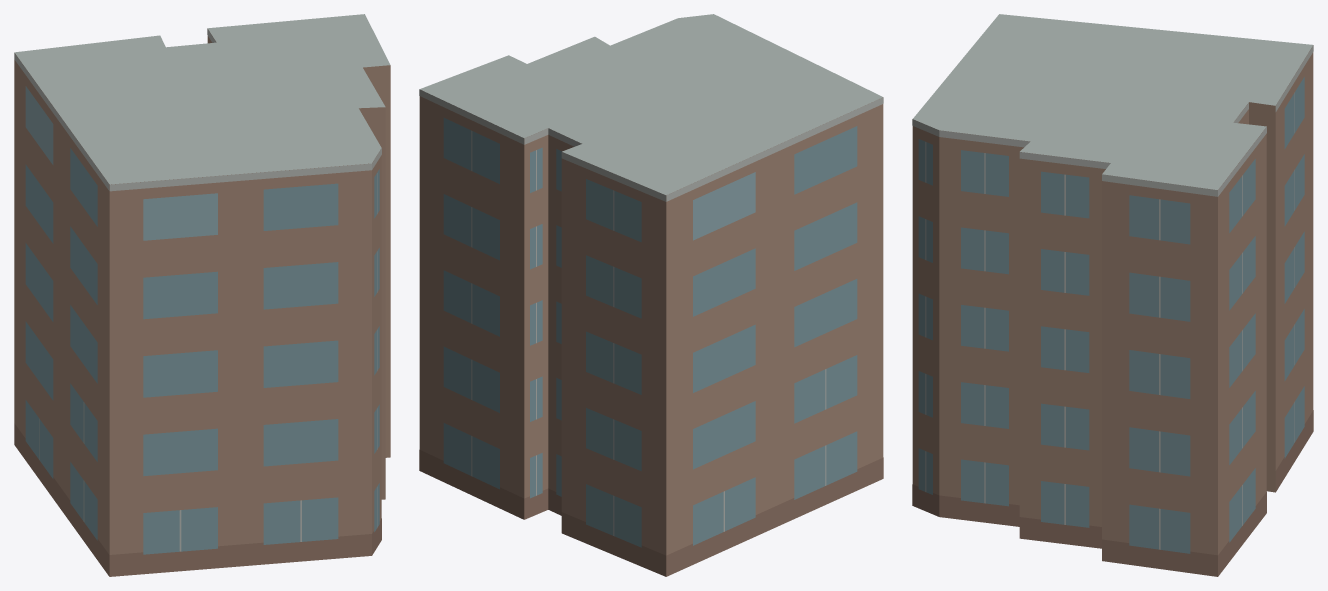
File: survey-upis-32676639.glb
3 views of the same model, side by side, from view 1: azimuth 30°, elevation 25°; view 2: azimuth 150°, elevation 25°; view 3: azimuth 270°, elevation 25° (orthographic). The views are drawn at different scales.
Visible parts, largest first — view 1: survey-upis-32676639.tmp; view 2: survey-upis-32676639.tmp; view 3: survey-upis-32676639.tmp.
Boxes of the visible parts, <box> form: survey-upis-32676639.tmp: <box>14,14,390,576</box>; survey-upis-32676639.tmp: <box>419,14,883,576</box>; survey-upis-32676639.tmp: <box>912,14,1313,576</box>.
Size of the model in its own units: 13.74 by 14.05 by 13.21.
